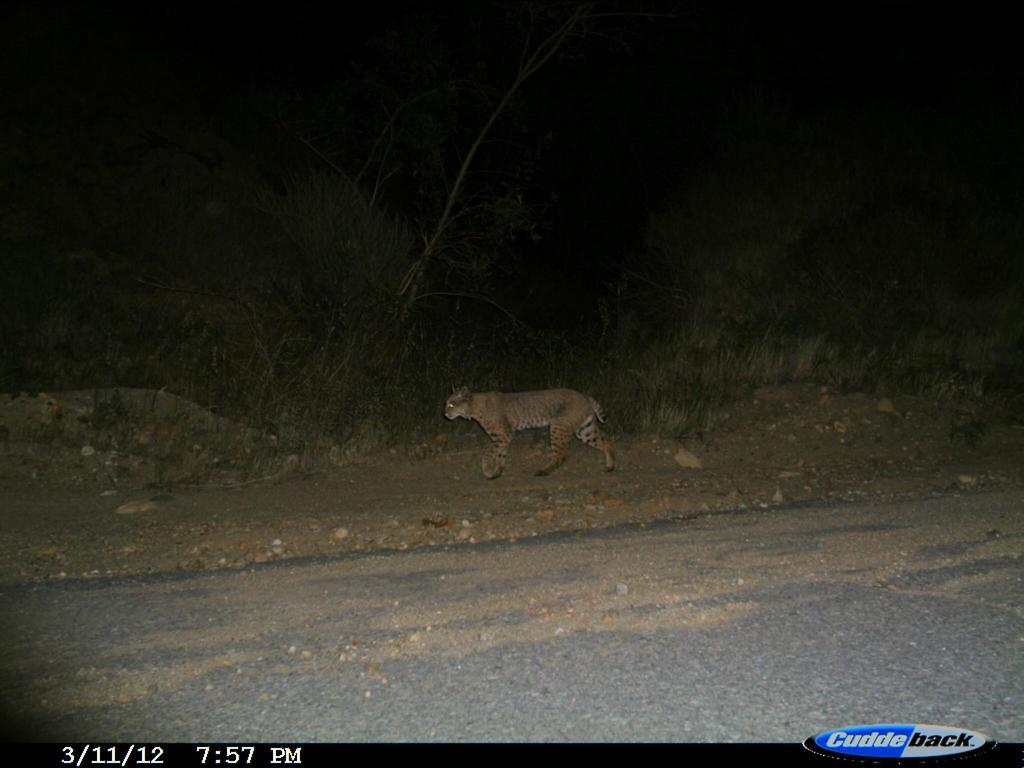bobcat: (430, 381, 625, 489)
